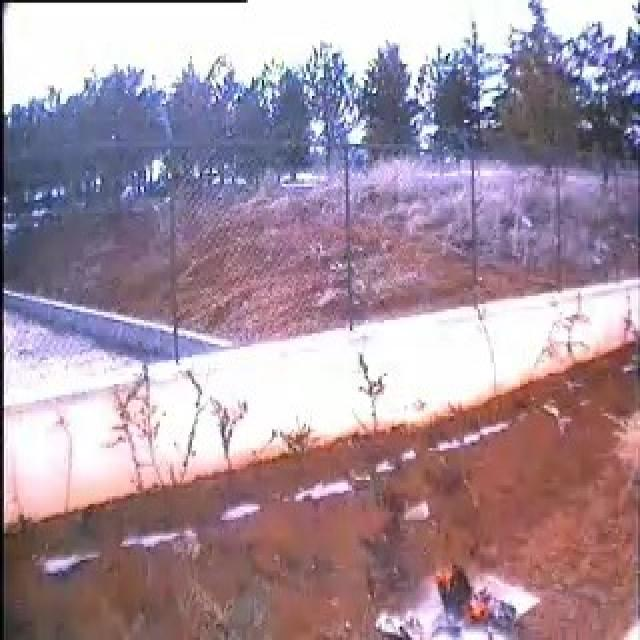fire: (471, 595, 490, 627), (437, 568, 452, 588)
